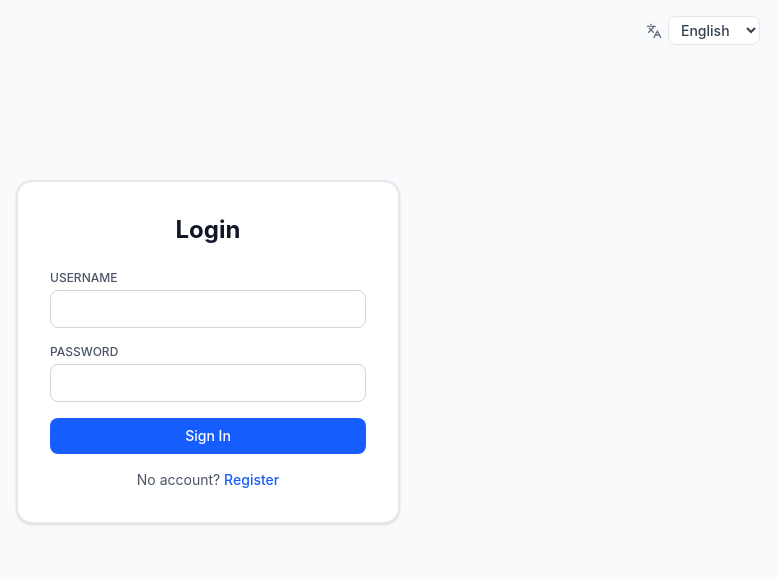
Test: App › when not authenticated › navigates to the registration page and back to login
Click the button "Register" at (252, 480), box [224,470,279,490]
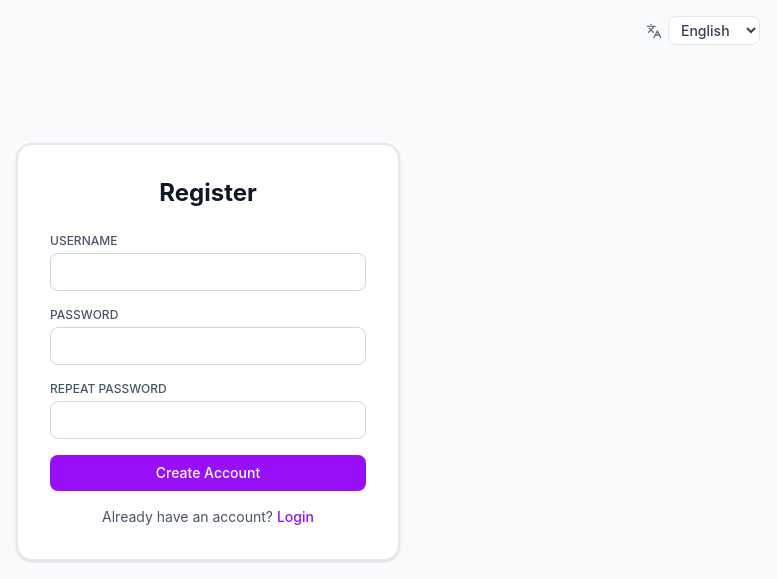
expect the heading "Register" is shown: met, box [159,178,257,207]
Click the button "Login" at (295, 517), box [277,507,314,527]
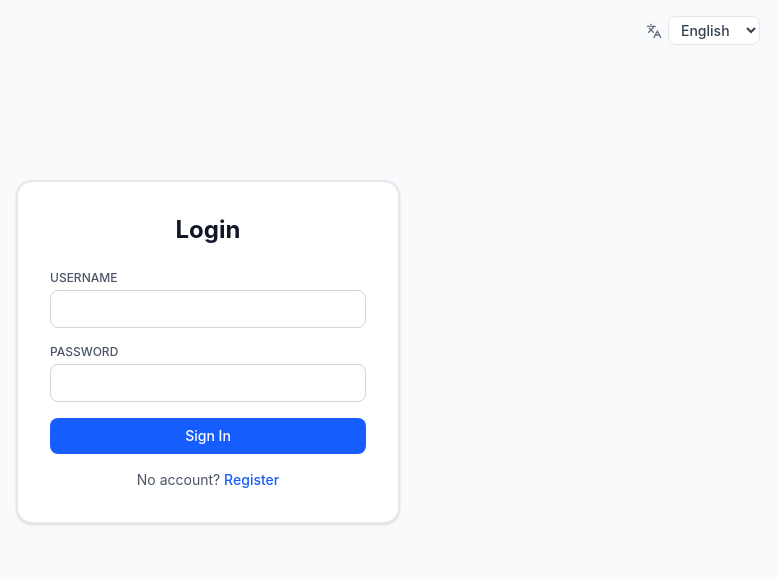
expect the heading "Login" is shown: met, box [176,215,240,244]
